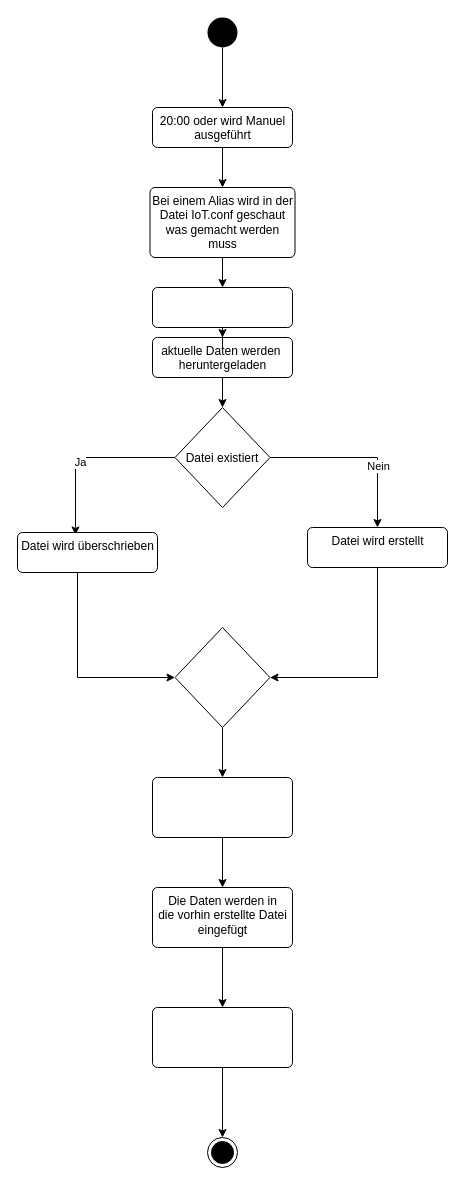
Some shapes in this 465 by 1185 pixel diagram are drawn without their labels. The shapes that lost their labels are listed below. From the top down, each one's centre as x and y in pixels, then its label:
At (x=222, y=307): "verbindet mit FTP".
At (x=222, y=807): "Liest aus den heunter- geladenen Dateien bestimmte Daten aus".
At (x=222, y=1037): "Schickt die zuvor erstellte Datei an ausgewählte E-Mail".
